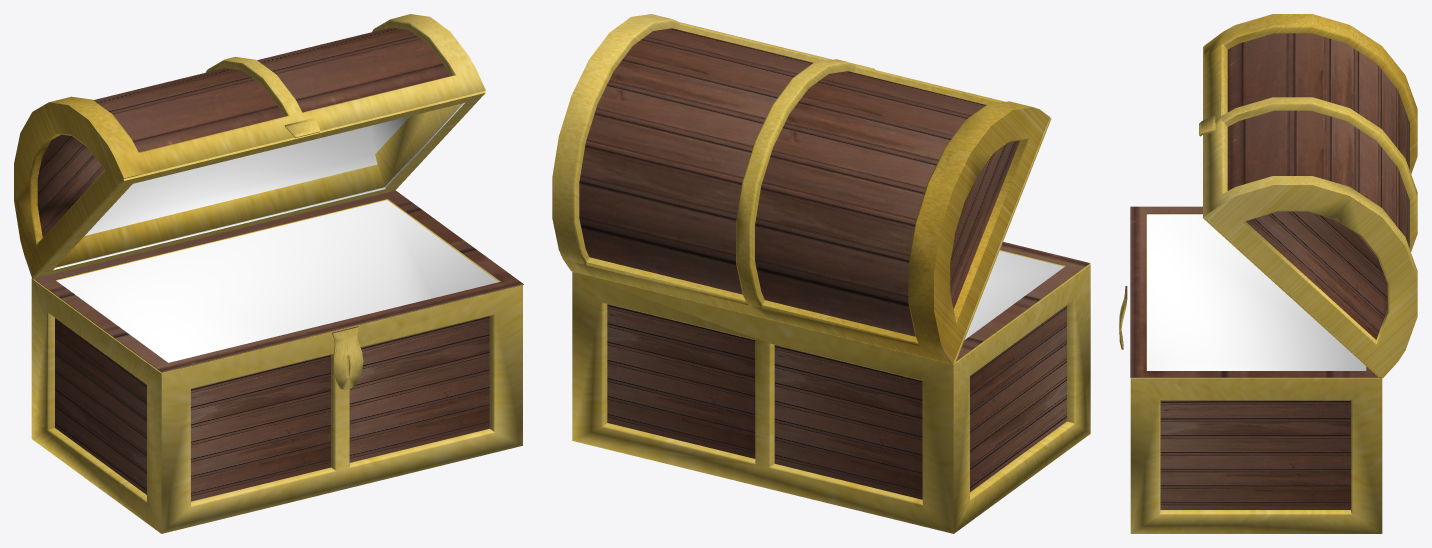
Rendered from FreeChest.obj.
3 renders of one model, left to right at view 1: azimuth 30°, elevation 25°; view 2: azimuth 150°, elevation 25°; view 3: azimuth 270°, elevation 25°, orthographic. The views are drawn at different scales.
Visible parts, largest first — view 1: pCylinder1, pCylinder1.001; view 2: pCylinder1.001, pCylinder1; view 3: pCylinder1, pCylinder1.001.
Part boxes in pixels (left/top/right/bottom): pCylinder1: left=31, top=190, right=523, bottom=533; pCylinder1.001: left=14, top=14, right=485, bottom=279; pCylinder1.001: left=552, top=14, right=1051, bottom=364; pCylinder1: left=572, top=242, right=1090, bottom=533; pCylinder1: left=1119, top=206, right=1382, bottom=533; pCylinder1.001: left=1199, top=14, right=1417, bottom=378.
Size of the model in its own units: 1.87 by 1.78 by 1.38.
Materials: 2 (2 with a texture image).
